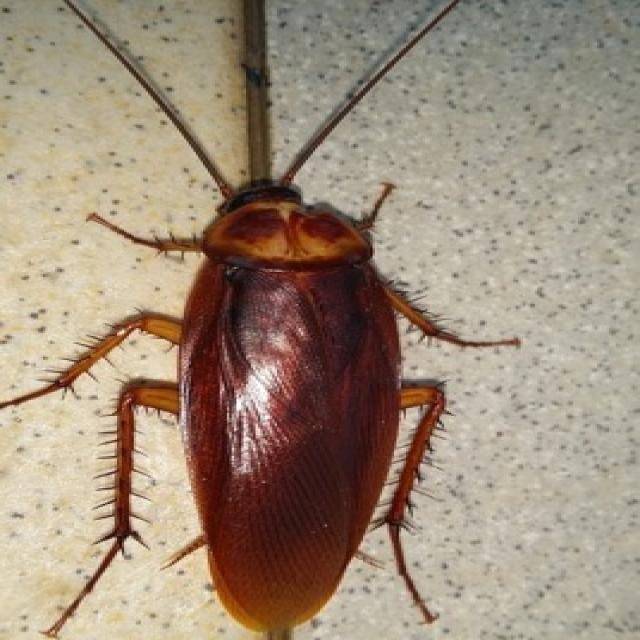Cockroach: (24, 67, 511, 634)
